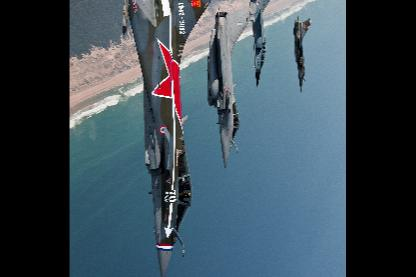Mirage2000: (250, 0, 277, 90), (294, 14, 312, 92)
RQ4: (123, 0, 233, 275), (206, 0, 257, 168)
